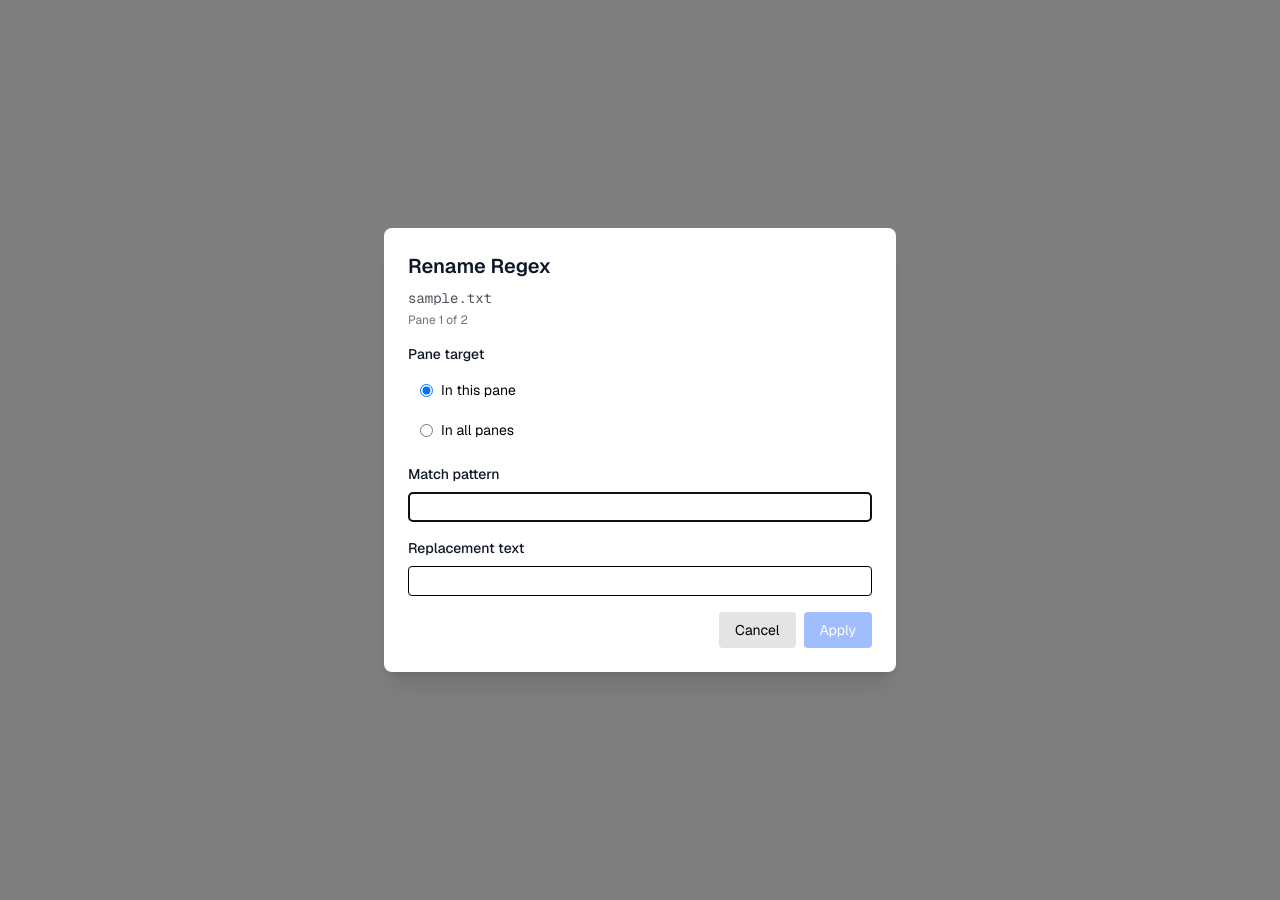
Test: RenameRegexDialog [IMPL-RENAME_REGEX_DIALOG] › disables Apply until match pattern is valid
The image size is (1280, 900).
Expected: the button with test id "rename-regex-apply" is disabled, [804, 612, 872, 648]
Type "(" into the field with test id "rename-regex-match" at (640, 507), box [408, 492, 872, 522]
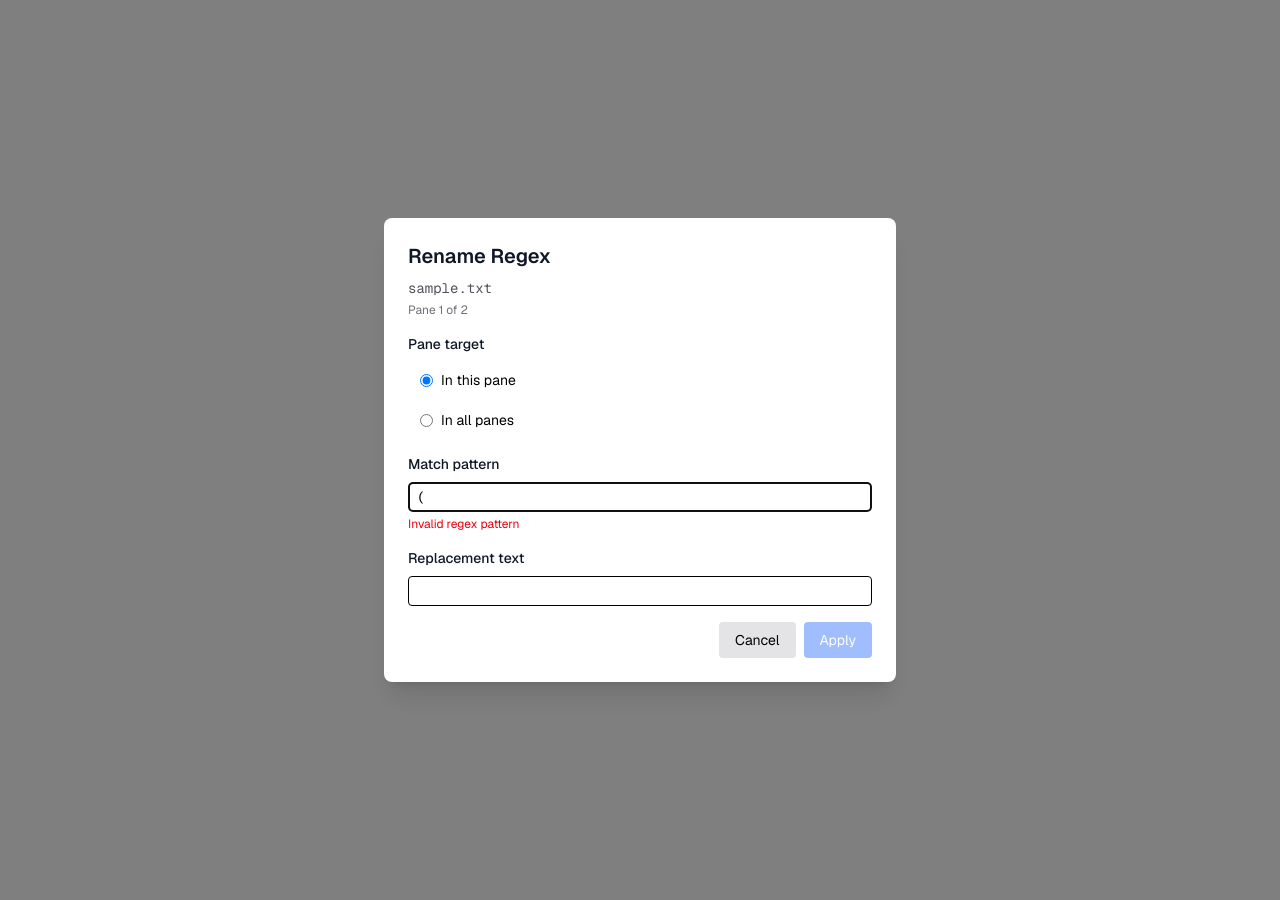
Expected: the button with test id "rename-regex-apply" is disabled, [804, 622, 872, 658]
Replace the text in the field with test id "rename-regex-match" with "\\.txt$" at (640, 497), box [408, 482, 872, 512]
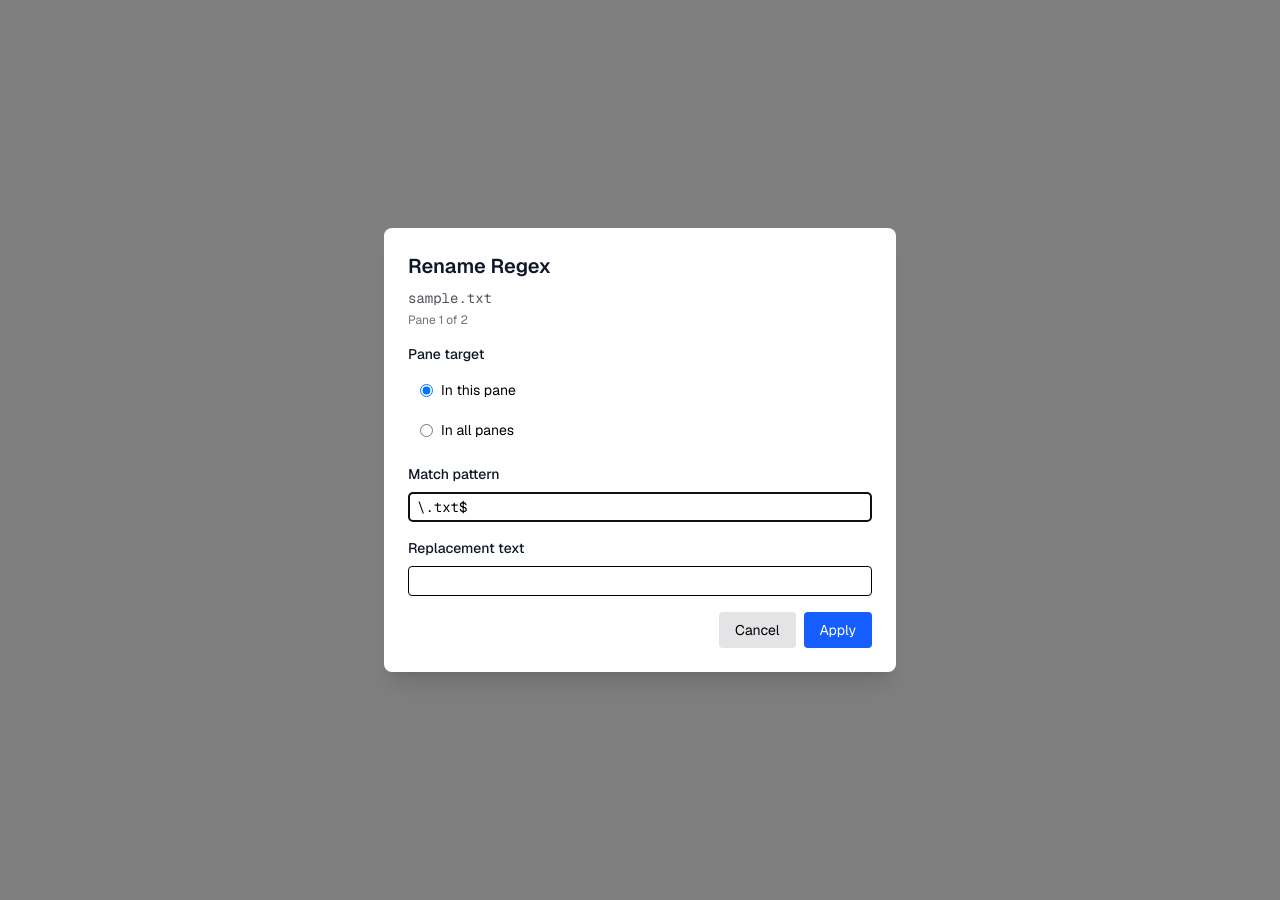
Expected: the button with test id "rename-regex-apply" is enabled, [804, 612, 872, 648]
